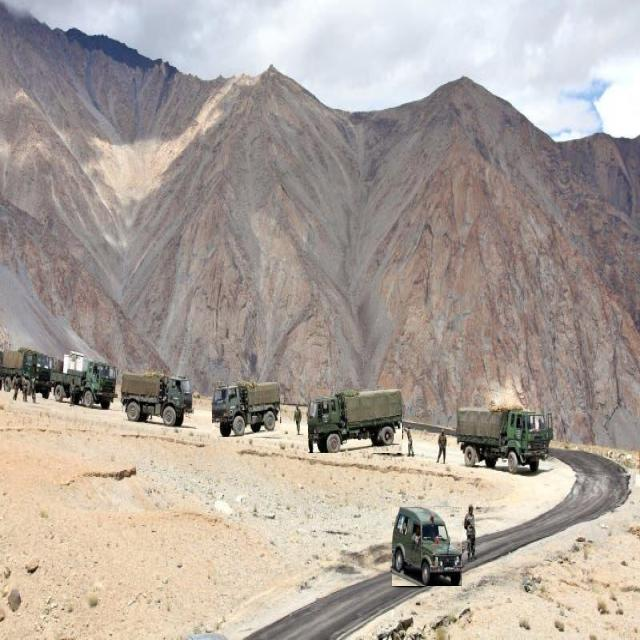car: (392, 508, 462, 586)
truck: (456, 408, 552, 473), (308, 389, 402, 453), (121, 373, 192, 427), (212, 382, 280, 437), (51, 352, 116, 409)
